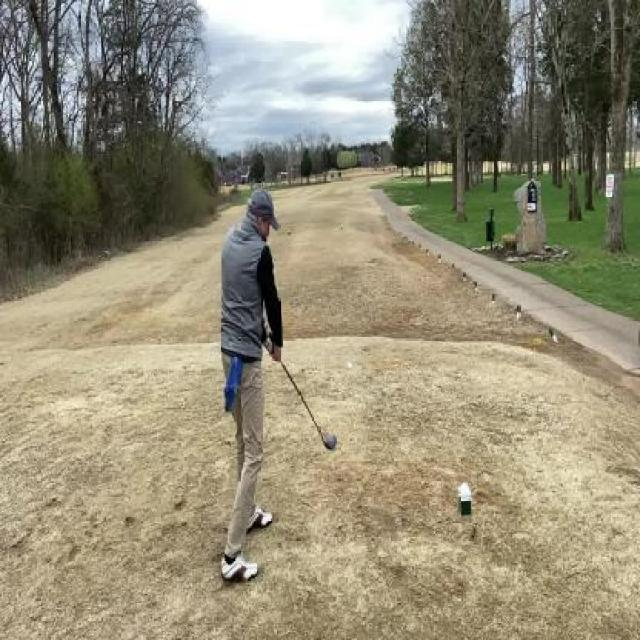club head: (320, 434, 335, 451)
